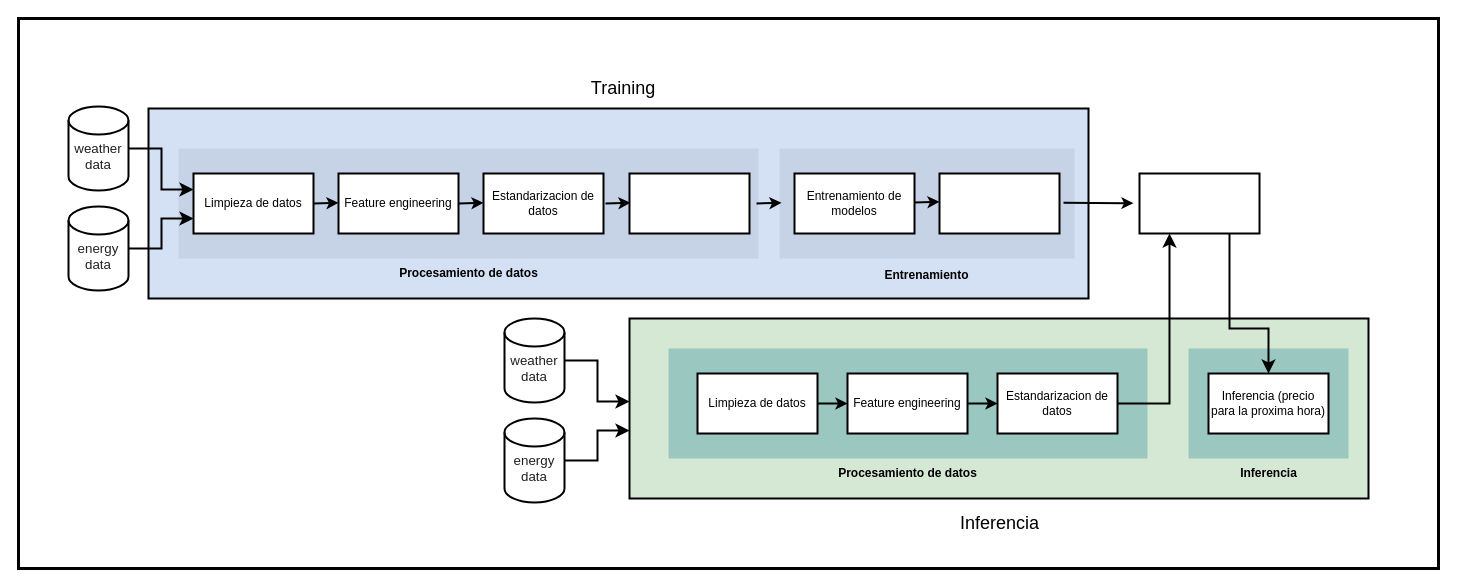
Image size: 1457x587. Some labels were removed from this diagram. Each missing label, with the box of its shape:
Competencia de modelos: (938, 172, 1060, 234)
Modelo productivo: (1138, 172, 1260, 234)
Seleccion de features: (628, 172, 750, 234)
